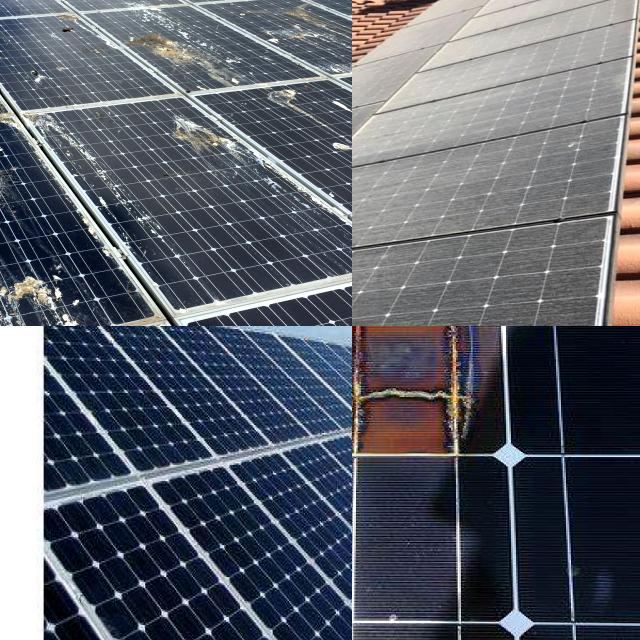bird: (137, 3, 260, 96), (154, 100, 255, 174), (0, 260, 110, 326), (0, 27, 41, 130), (0, 129, 47, 211), (279, 0, 352, 41), (0, 43, 28, 117), (325, 132, 352, 203), (0, 225, 27, 245)
crack: (45, 326, 352, 640)
dust: (387, 211, 616, 326), (458, 0, 632, 96), (485, 94, 621, 208), (352, 92, 432, 222), (352, 242, 471, 326), (370, 22, 440, 85)
shadow: (352, 326, 538, 469), (352, 326, 439, 450)
